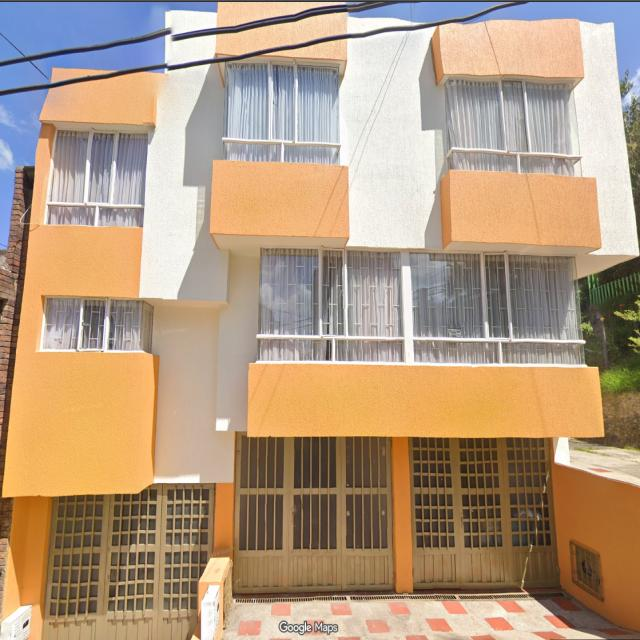Fachada: (3, 2, 638, 638)
